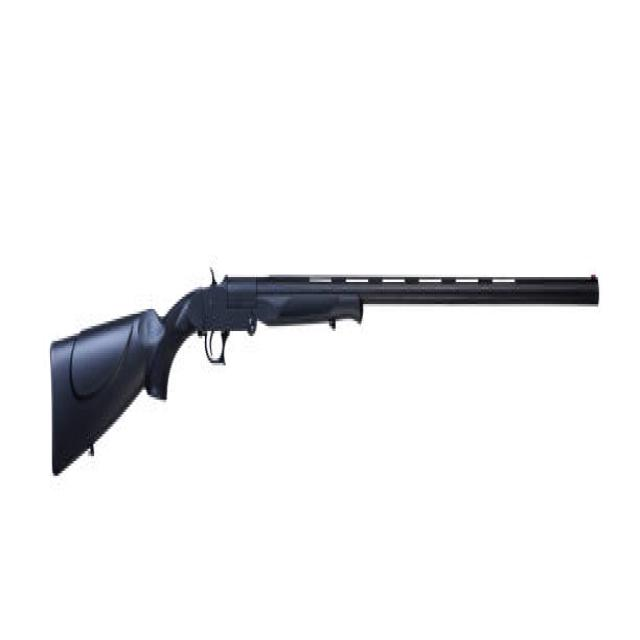rifle: (48, 257, 607, 484)
